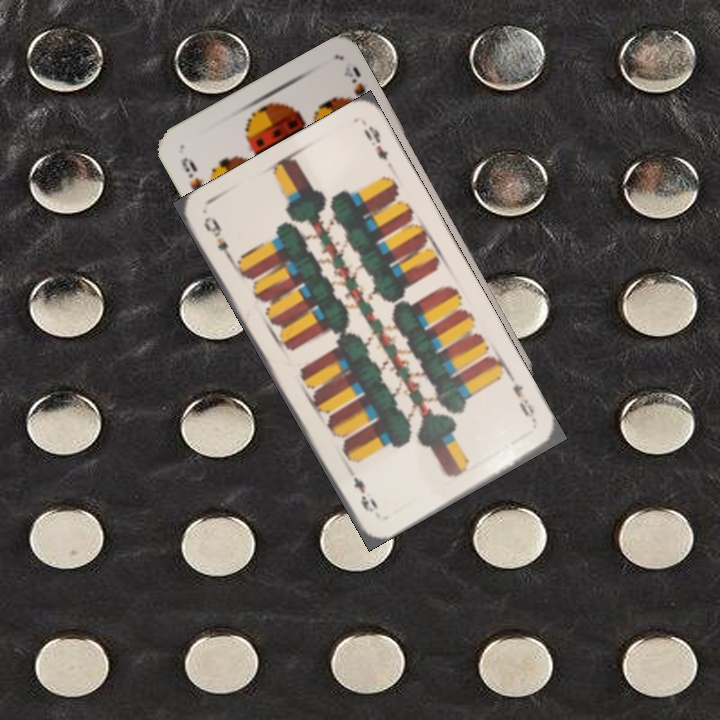E9: (199, 212, 237, 266), (508, 380, 537, 420)
S9: (177, 153, 206, 194)
